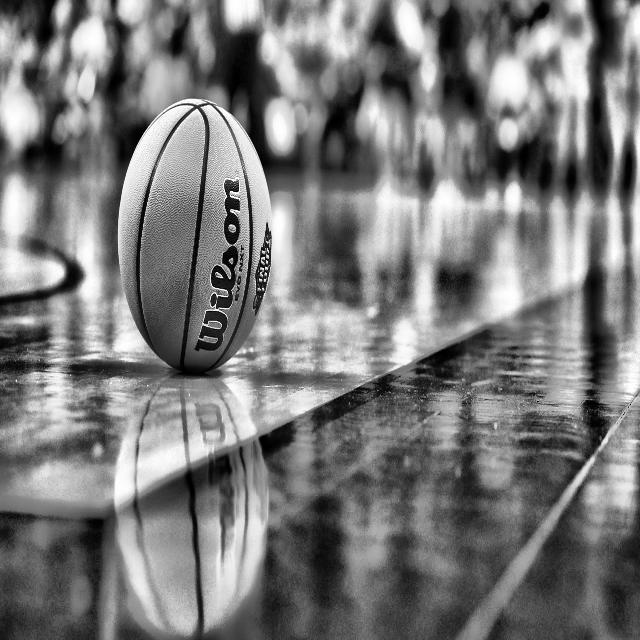Basketball: (117, 98, 272, 372)
